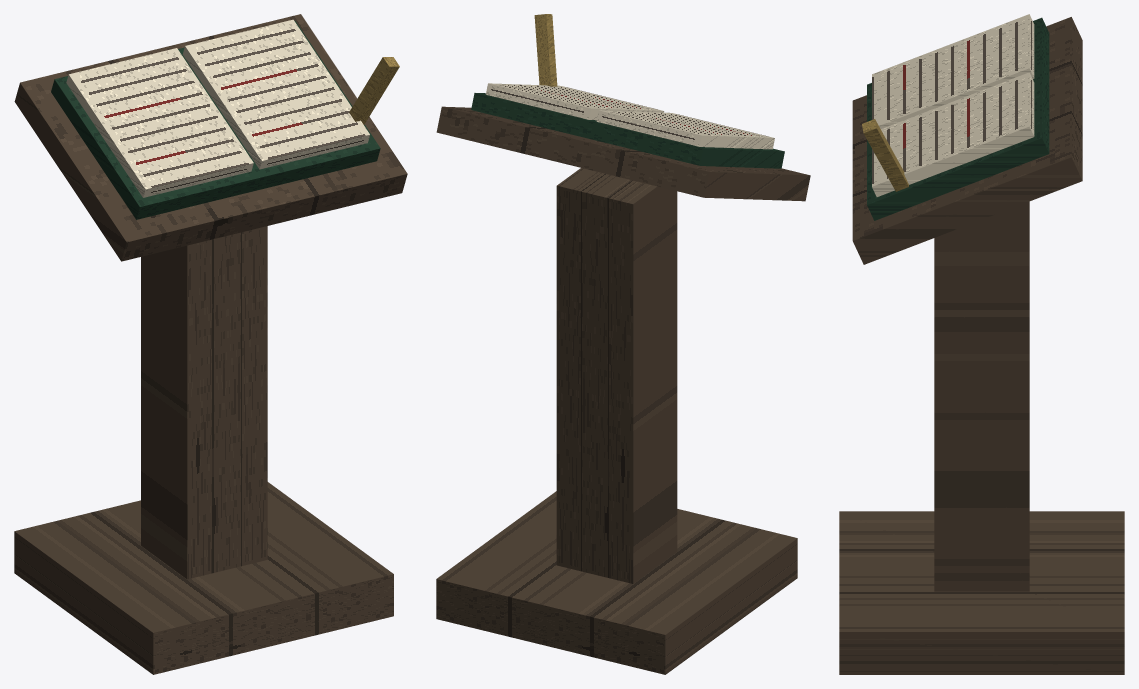
Rendered from lectern.glb.
3 views of the same model, side by side, from view 1: azimuth 30°, elevation 25°; view 2: azimuth 150°, elevation 25°; view 3: azimuth 270°, elevation 25° (orthographic). The views are drawn at different scales.
Visible parts, largest first — view 1: lectern; view 2: lectern; view 3: lectern.
Boxes of the visible parts, left/top/right/bottom form: lectern: left=14, top=14, right=407, bottom=674; lectern: left=436, top=14, right=810, bottom=674; lectern: left=839, top=14, right=1124, bottom=674.
Size of the model in its own units: 0.7 by 1.3 by 0.6.
1 material, 1 textured.
